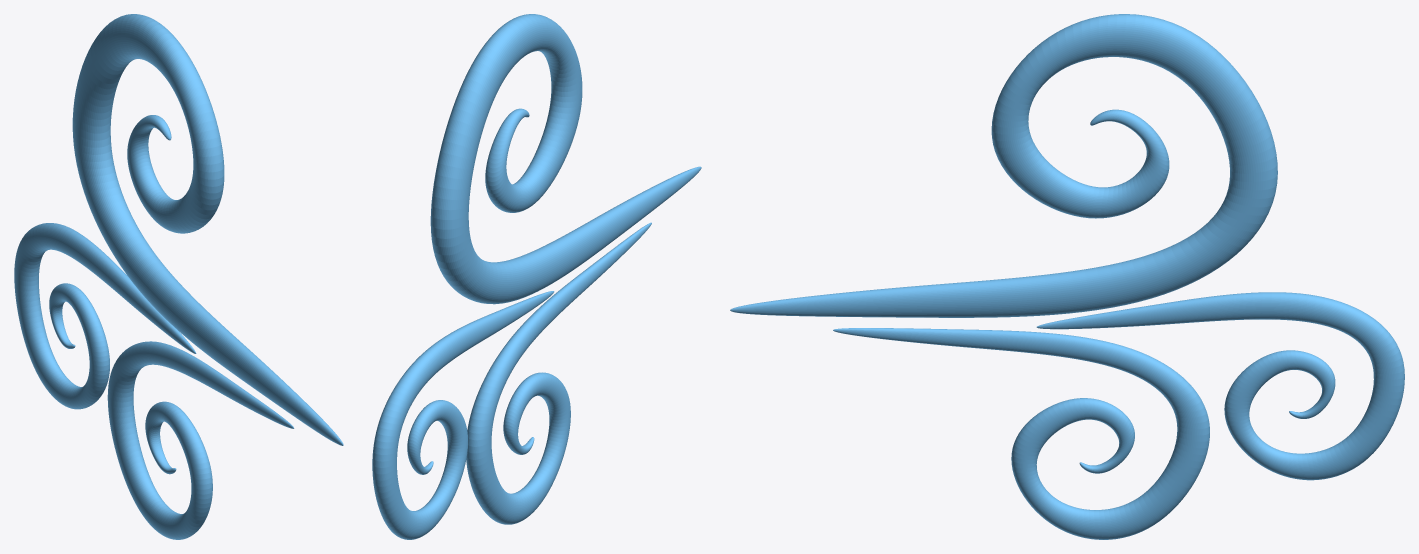
Rendered from Wind.fbx.
The picture shows the model from 3 angles, left to right: view 1: azimuth 30°, elevation 25°; view 2: azimuth 150°, elevation 25°; view 3: azimuth 270°, elevation 25°; orthographic projection. The views are drawn at different scales.
Visible parts, largest first — view 1: Wind; view 2: Wind; view 3: Wind.
Part boxes in pixels (x1=…): Wind: x1=14, y1=14, x2=343, y2=539; Wind: x1=372, y1=14, x2=701, y2=539; Wind: x1=730, y1=14, x2=1404, y2=539.
Bounding box in the file's own units: 5.96 × 98.8 × 115.
